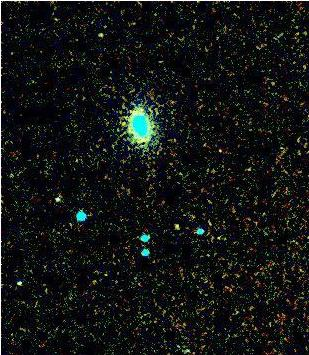star: (159, 211, 189, 241)
